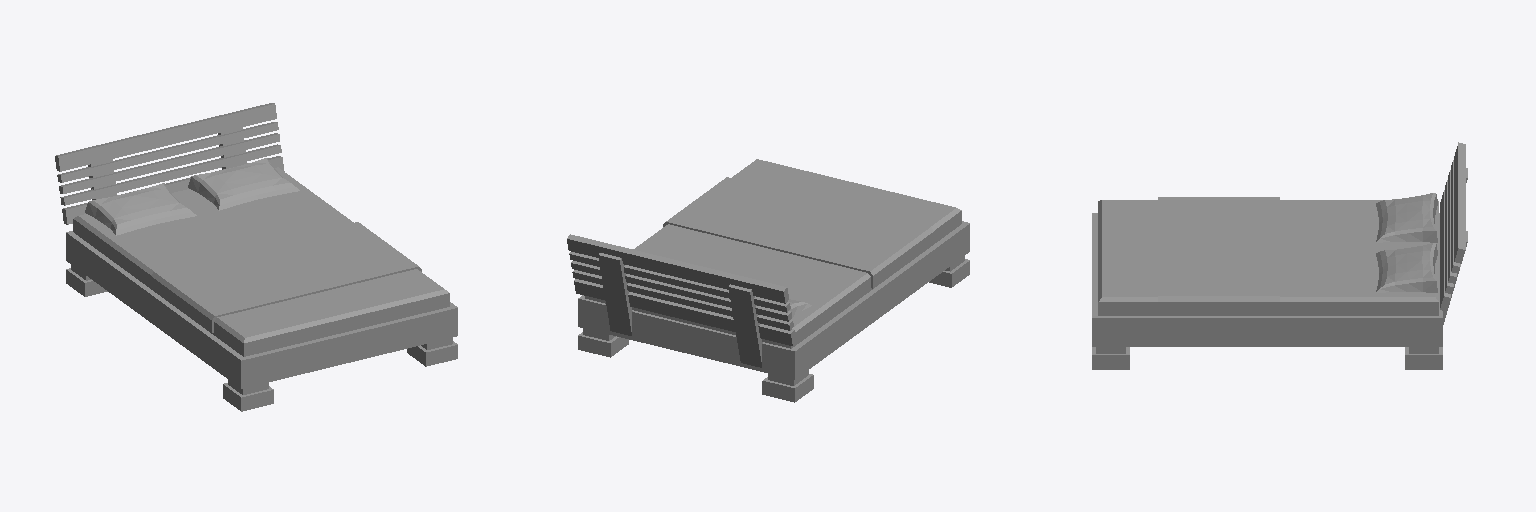
The model's file is double_bed_1.obj.
The picture shows the model from 3 angles: view 1: azimuth 30°, elevation 25°; view 2: azimuth 150°, elevation 25°; view 3: azimuth 270°, elevation 25°; orthographic projection.
Visible parts, largest first — view 1: Cube.013; view 2: Cube.013; view 3: Cube.013.
Boxes of the visible parts, box(x1,y1,x2,y2) form: Cube.013: box(55, 103, 457, 411); Cube.013: box(567, 159, 969, 402); Cube.013: box(1092, 142, 1467, 369).
Size of the model in its own units: 4 by 2.13 by 6.